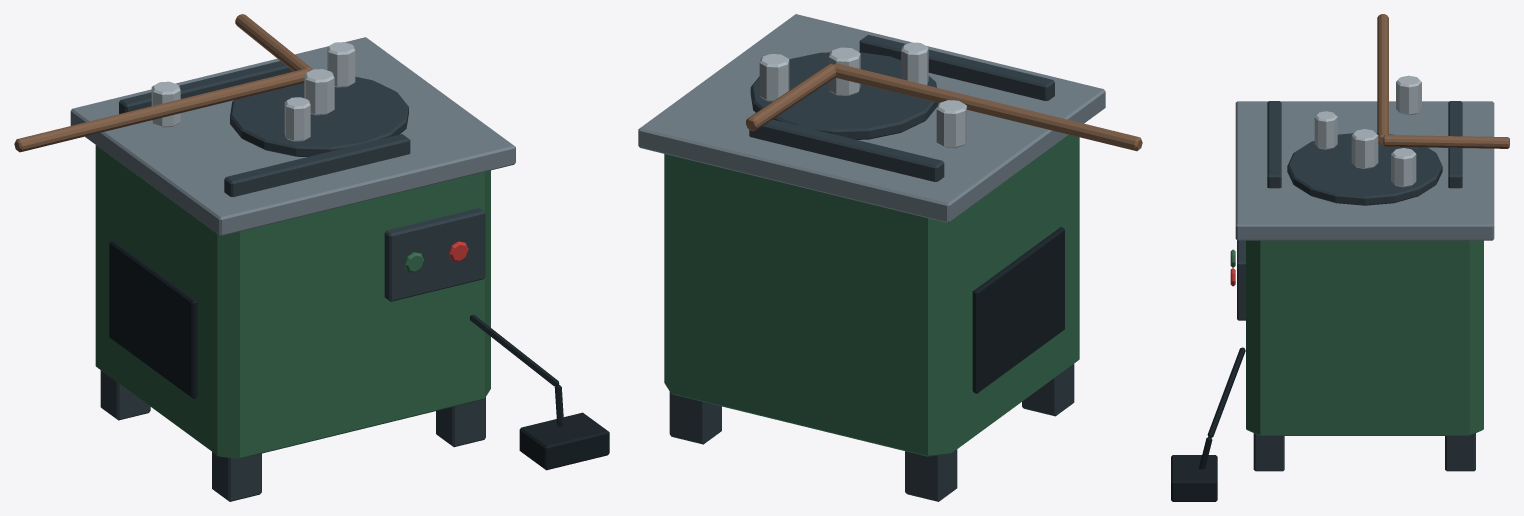
The model's file is b07_electric_rebar_bending_table.glb.
The picture shows the model from 3 angles, left to right: view 1: azimuth 30°, elevation 25°; view 2: azimuth 150°, elevation 25°; view 3: azimuth 270°, elevation 25°; orthographic projection. The views are drawn at different scales.
Parts seen in each view (by area): view 1: b07_electric_rebar_bending_table; view 2: b07_electric_rebar_bending_table; view 3: b07_electric_rebar_bending_table.
Part boxes in pixels (x1=…): b07_electric_rebar_bending_table: x1=14, y1=14, x2=609, y2=501; b07_electric_rebar_bending_table: x1=638, y1=14, x2=1142, y2=501; b07_electric_rebar_bending_table: x1=1171, y1=14, x2=1509, y2=501.
Size of the model in its own units: 1.8 by 1.26 by 1.31.
